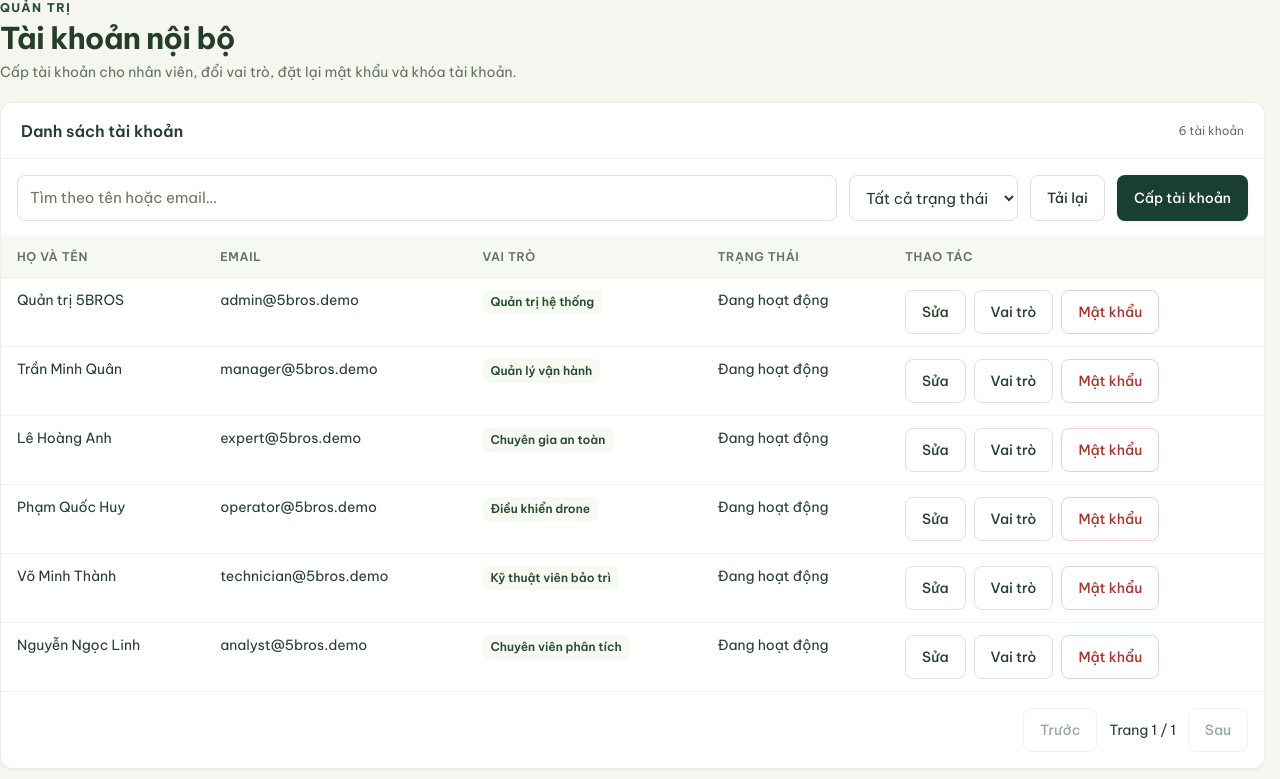
Test case: AccountsPage › cấp tài khoản xong thì đóng hộp thoại và hiện trong danh sách
Check: the text "admin@5bros.demo" is shown, box top-left (204, 278), bottom-right (466, 346)
Click the button "Cấp tài khoản": coordinates (1182, 198) top-left (1117, 175), bottom-right (1248, 221)
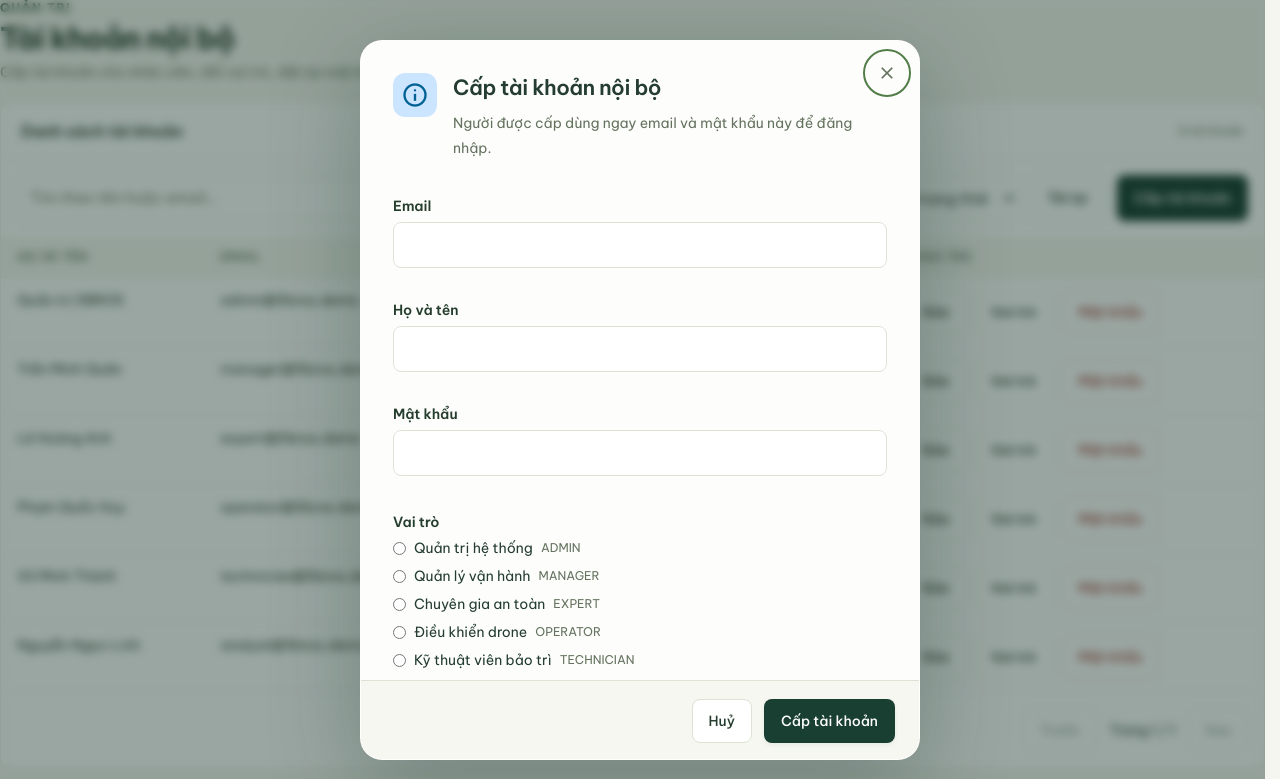
In the field labelled "Email": coordinates (640, 245) top-left (393, 222), bottom-right (887, 268), type "phicong@5bros.local"
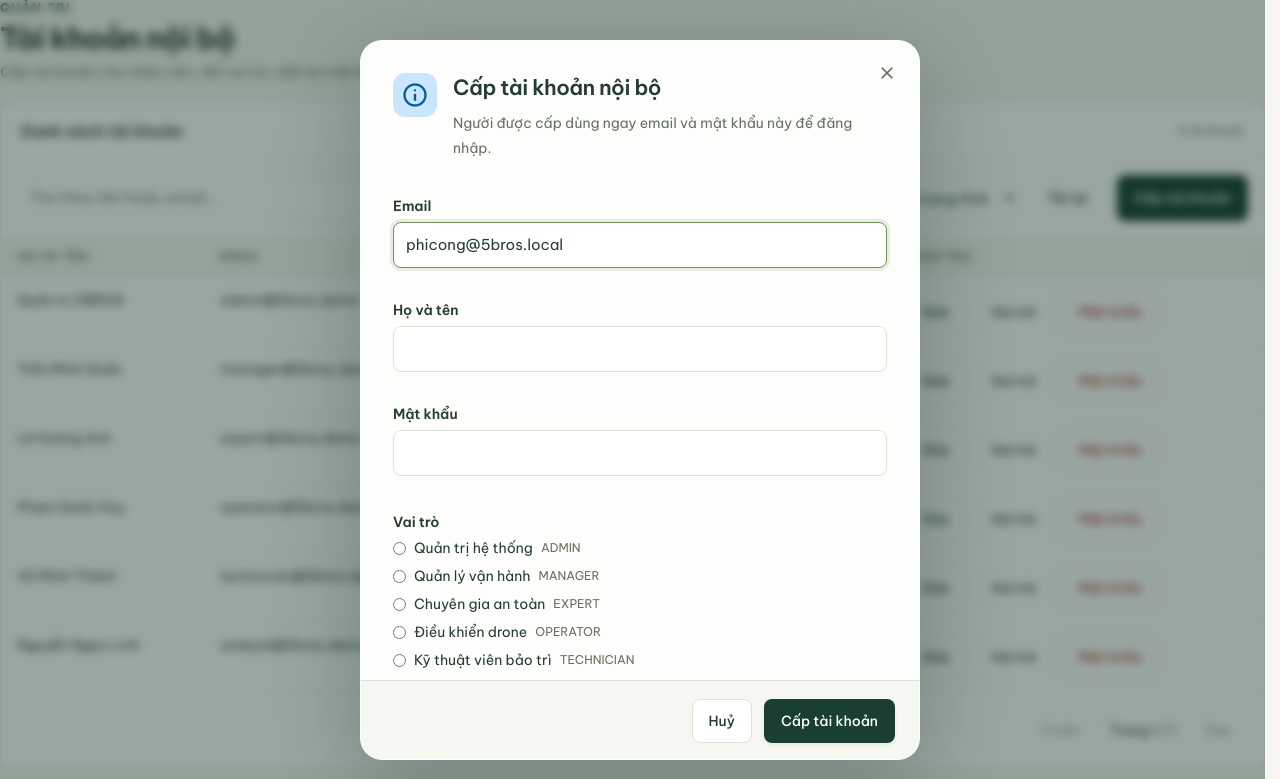
In the field labelled "Họ và tên": coordinates (640, 349) top-left (393, 326), bottom-right (887, 372), type "Trần Phi Công"
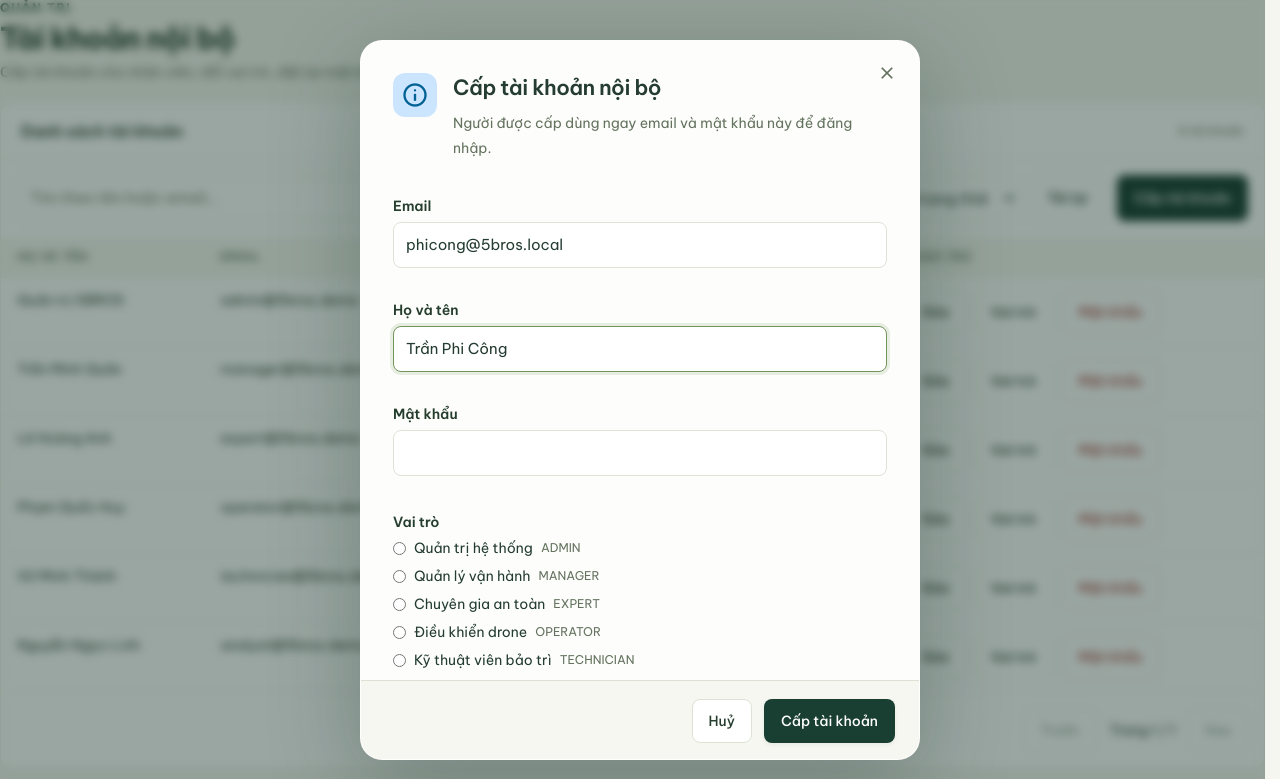
In the password field labelled "Mật khẩu": coordinates (640, 453) top-left (393, 430), bottom-right (887, 476), type "BayCao@2026"
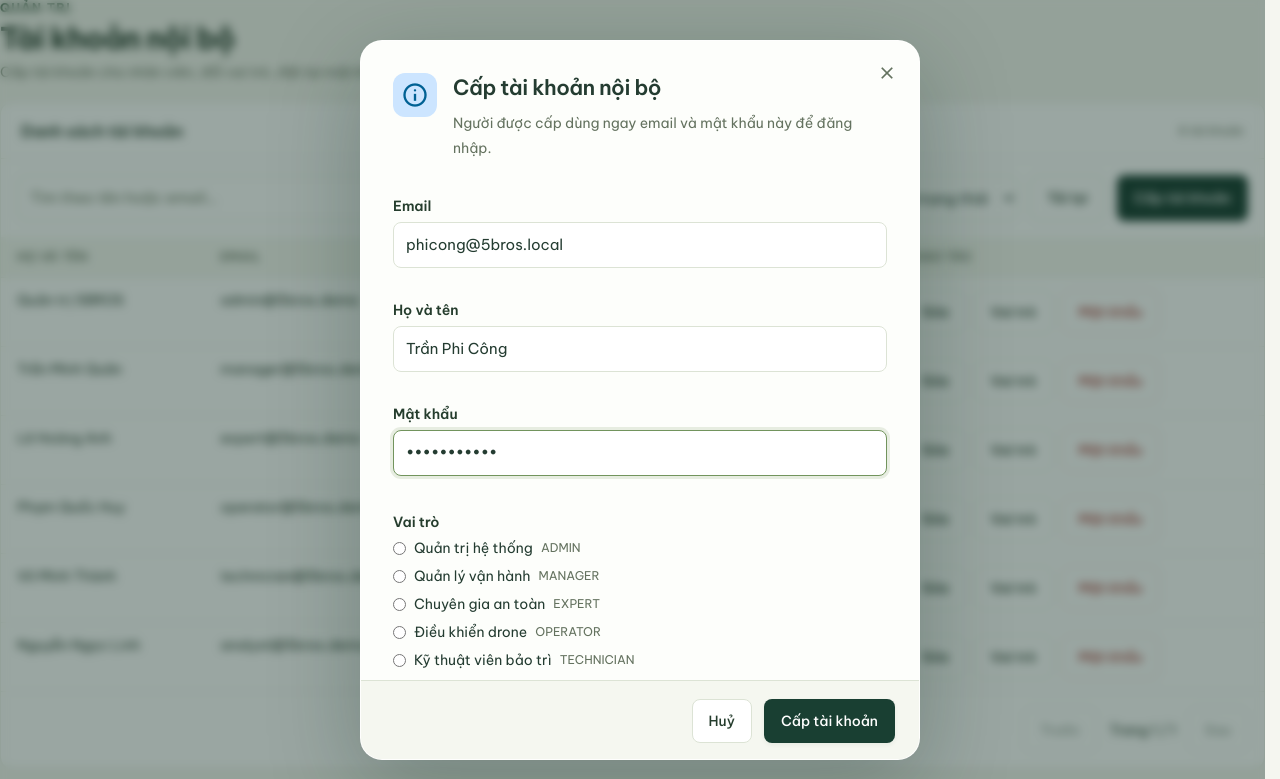
Click the radio button labelled "Điều khiển drone": coordinates (400, 632) top-left (393, 626), bottom-right (406, 639)
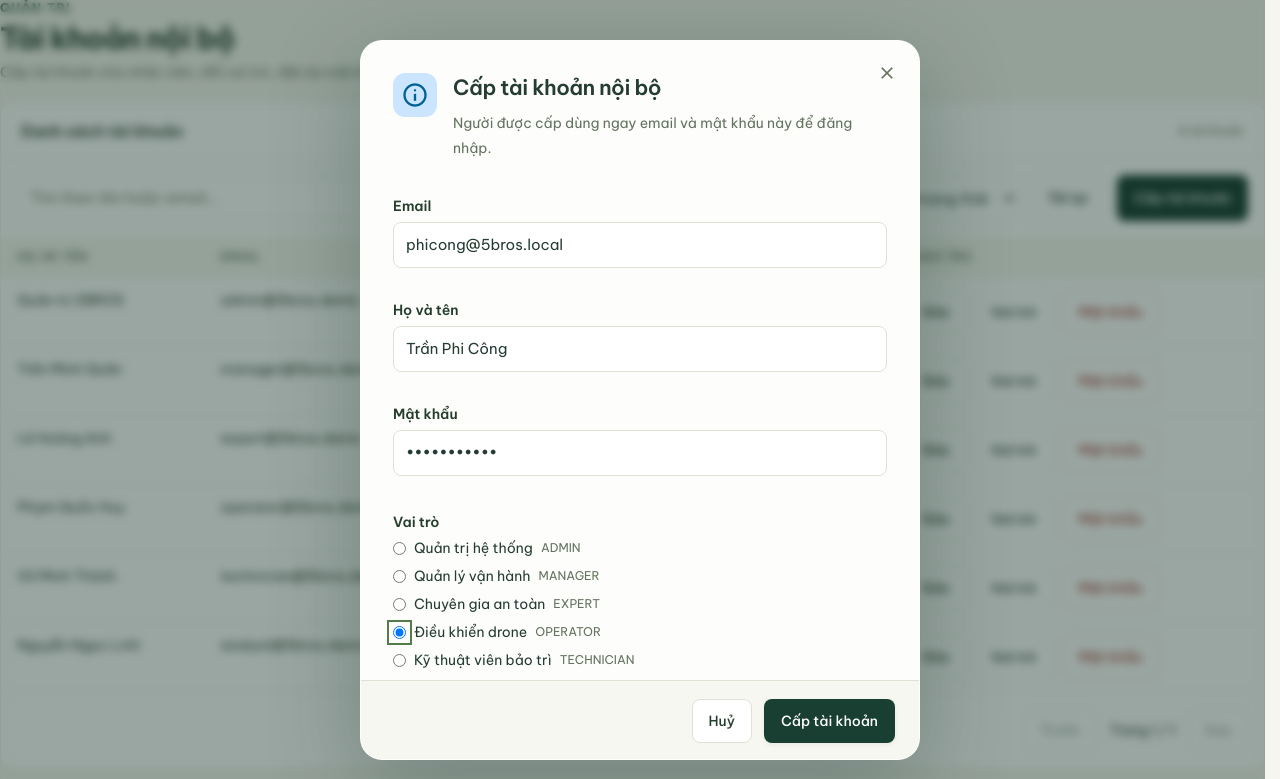
Click the button "Cấp tài khoản": coordinates (829, 721) top-left (764, 699), bottom-right (895, 743)
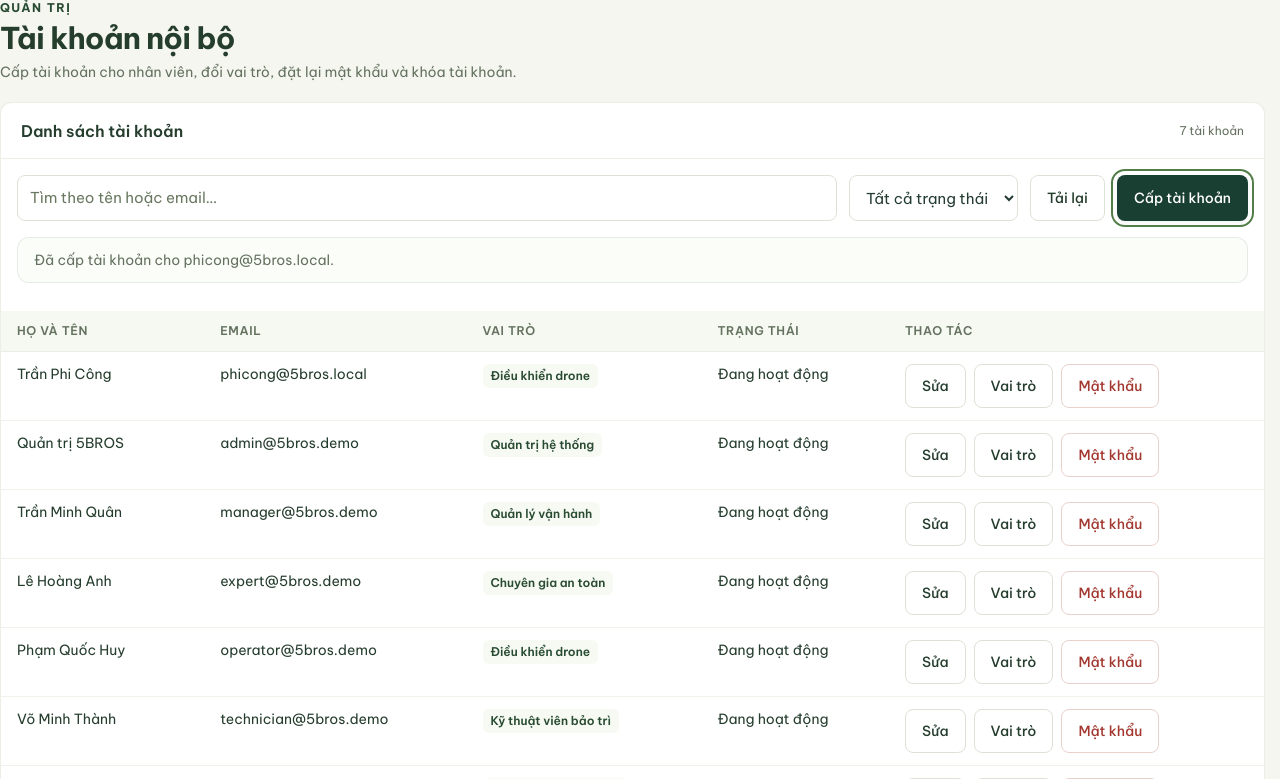
Check: the dialog is gone
Check: the text "Đã cấp tài khoản cho phicong@5bros.local." is shown, box top-left (17, 237), bottom-right (1248, 283)
Check: the text "phicong@5bros.local" is shown, box top-left (204, 352), bottom-right (466, 420)
